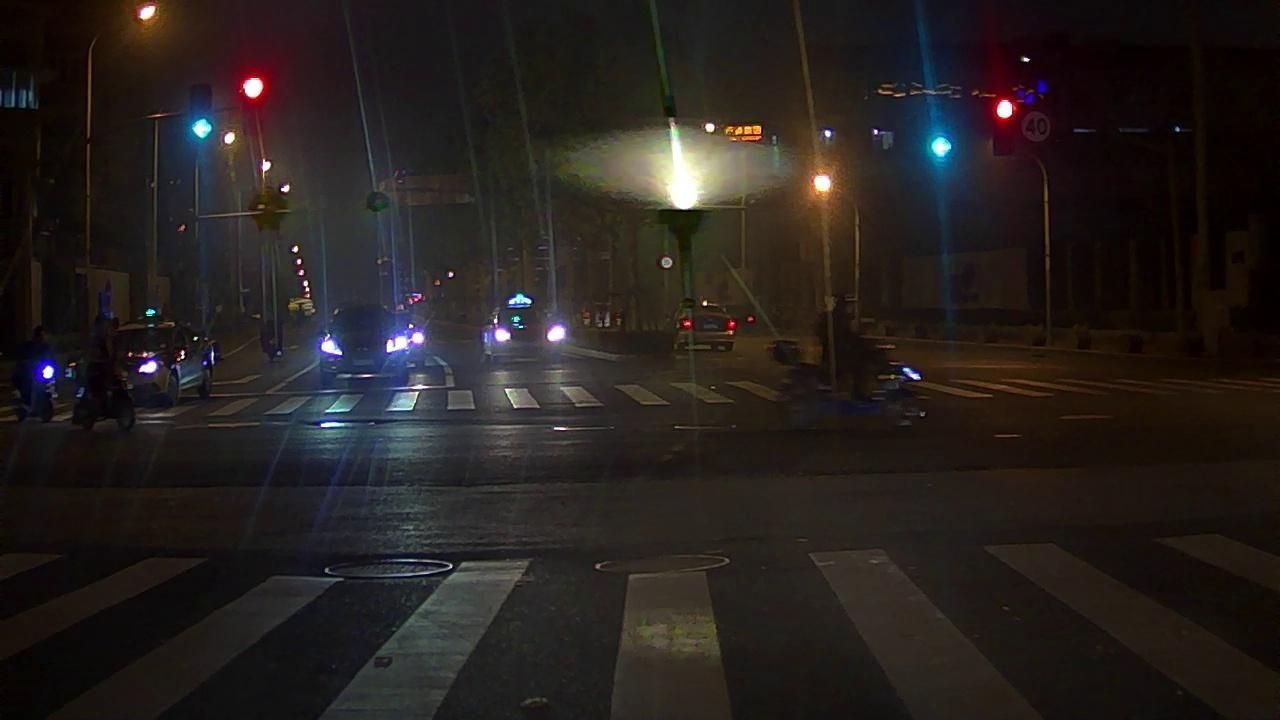traffic_light: (191, 89, 210, 146), (244, 78, 263, 135), (995, 98, 1013, 153), (933, 140, 952, 158)
